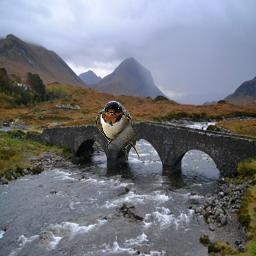Swallow: (96, 101, 141, 159)
